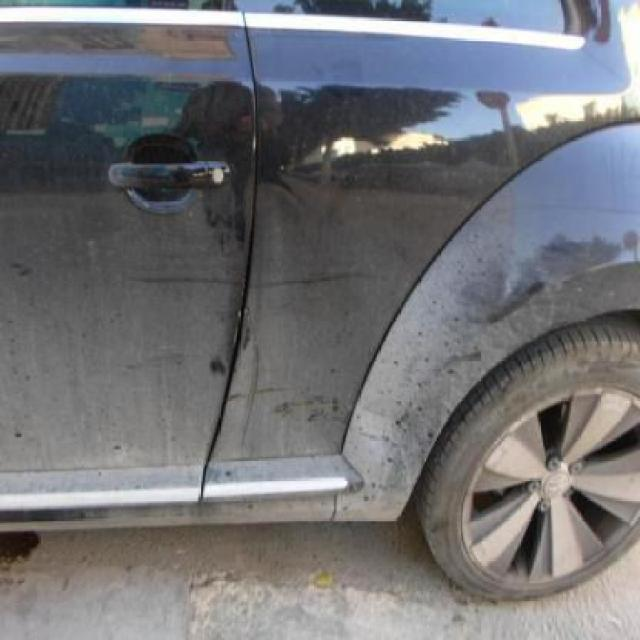Dent: (242, 174, 361, 346), (493, 217, 637, 319), (205, 355, 225, 369)
